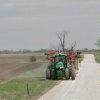Tractor: (39, 40, 84, 89)
